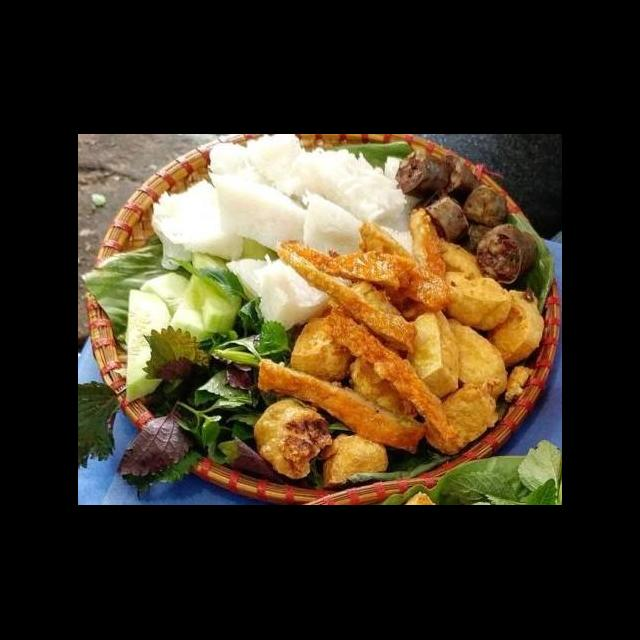bun: (139, 136, 431, 342)
bun dau: (99, 152, 562, 494)
cha com: (270, 228, 455, 354), (322, 304, 461, 440), (249, 358, 430, 456), (353, 208, 455, 316)
dau hu: (248, 392, 334, 486), (440, 308, 514, 408), (435, 260, 514, 336), (403, 306, 464, 404), (437, 374, 509, 456), (479, 283, 549, 367), (283, 314, 361, 386), (321, 428, 390, 492)
doi sun: (392, 146, 540, 292)
